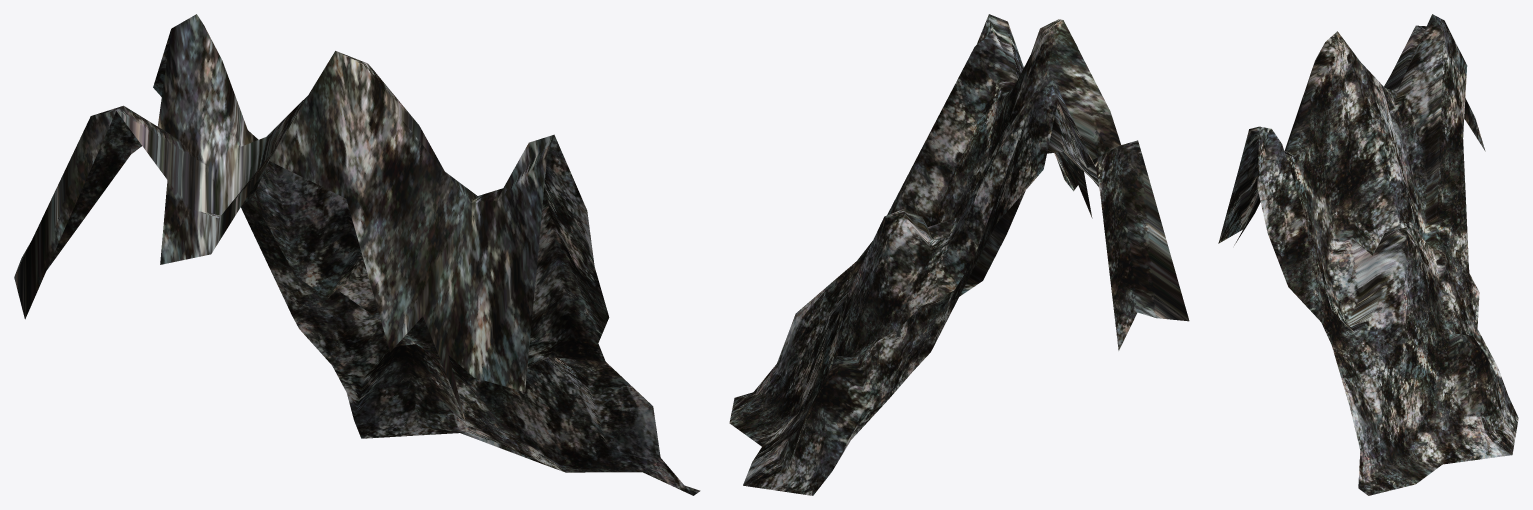
File: OVERHILL_A_01_MOUN1_OBJECT147.fbx
3 views of the same model, side by side, from view 1: azimuth 30°, elevation 25°; view 2: azimuth 150°, elevation 25°; view 3: azimuth 270°, elevation 25° (orthographic). The views are drawn at different scales.
Visible parts, largest first — view 1: OVERHILL_A_01_MOUN1_OBJECT147; view 2: OVERHILL_A_01_MOUN1_OBJECT147; view 3: OVERHILL_A_01_MOUN1_OBJECT147.
Boxes of the visible parts, left/top/right/bottom form: OVERHILL_A_01_MOUN1_OBJECT147: left=14, top=14, right=700, bottom=495; OVERHILL_A_01_MOUN1_OBJECT147: left=729, top=14, right=1189, bottom=495; OVERHILL_A_01_MOUN1_OBJECT147: left=1218, top=14, right=1518, bottom=495.
Bounding box in the file's own units: 368975 × 312306 × 245845.
Materials: 1 (1 with a texture image).
